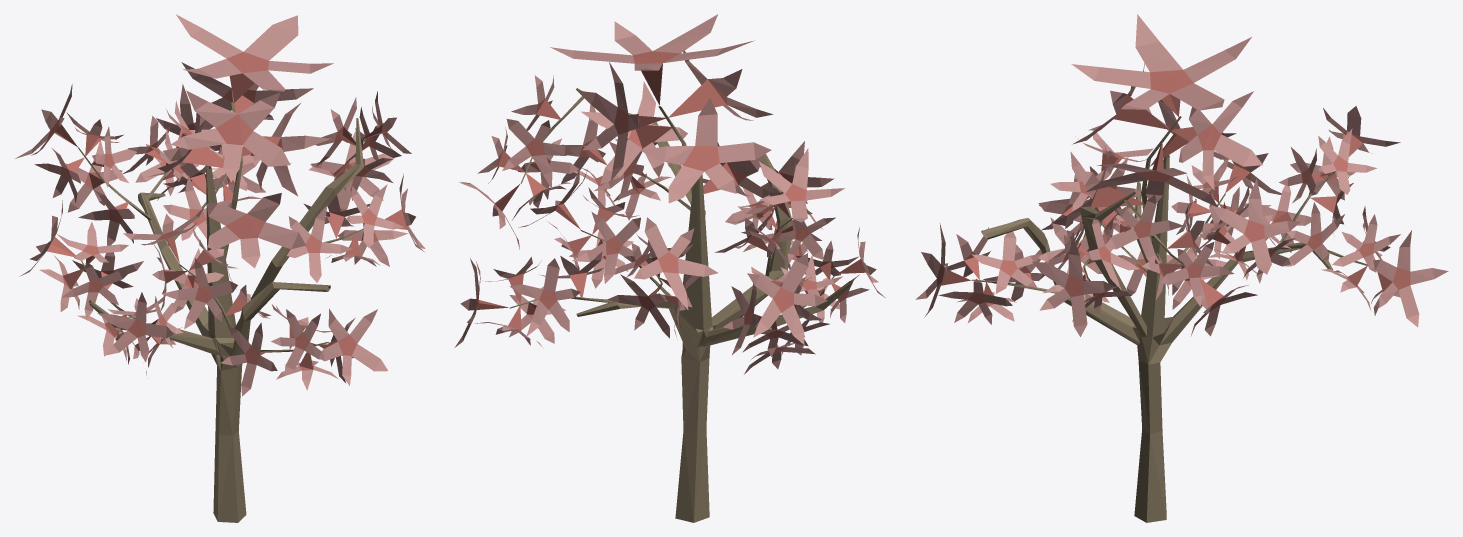
File: Peach_3_2.fbx
3 renders of one model, left to right at view 1: azimuth 30°, elevation 25°; view 2: azimuth 150°, elevation 25°; view 3: azimuth 270°, elevation 25°, orthographic. The views are drawn at different scales.
Visible parts, largest first — view 1: Peach_3_2; view 2: Peach_3_2; view 3: Peach_3_2.
Part boxes in pixels (x1,y1,x2,y2): Peach_3_2: (15,14,425,522); Peach_3_2: (454,14,885,522); Peach_3_2: (915,14,1448,522).
Size of the model in its own units: 290 by 359 by 364.
